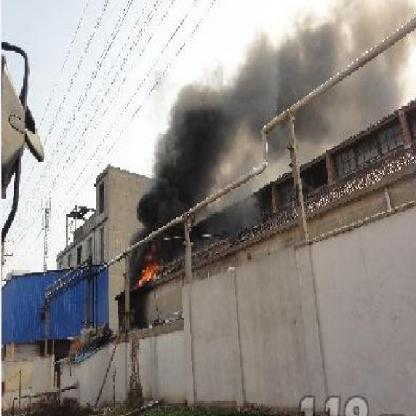smoke: (154, 115, 240, 186), (200, 64, 295, 112), (297, 11, 368, 67)
